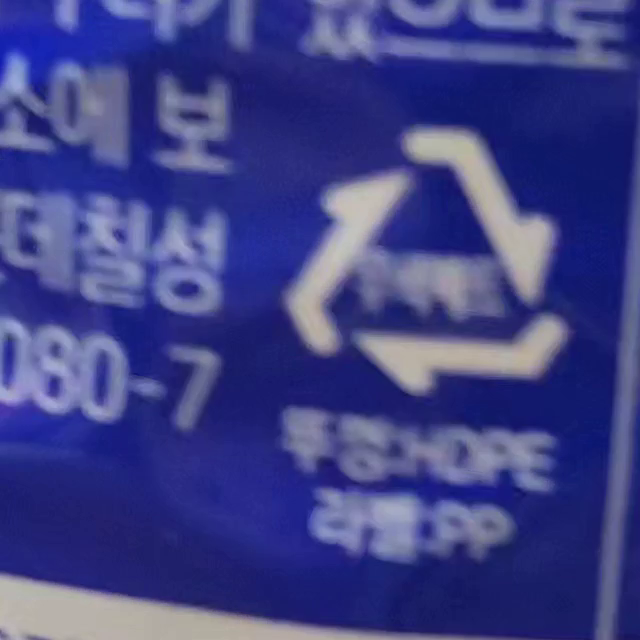ColorlessPet: (286, 131, 564, 392)
